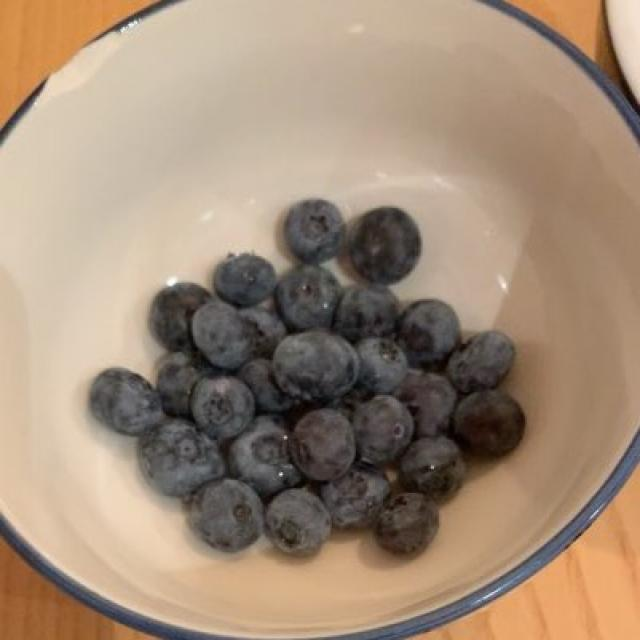blueberries: (97, 202, 520, 548)
